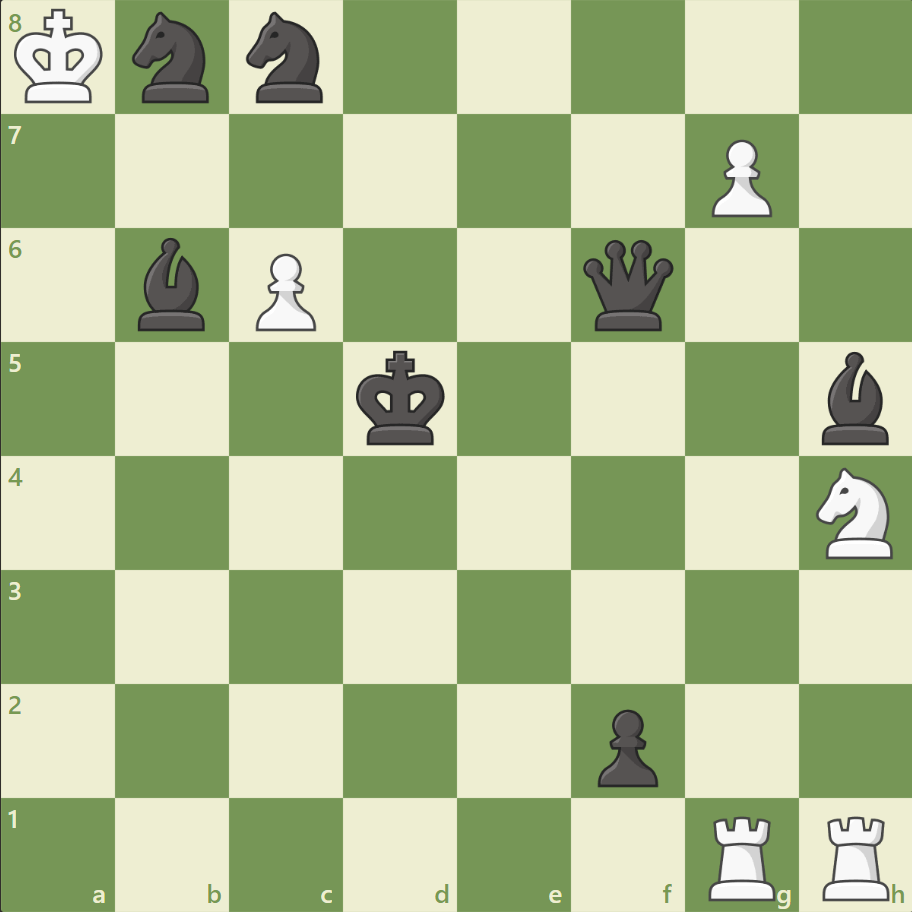K: (11, 4, 111, 112)
N: (806, 461, 903, 564)
P: (701, 132, 776, 223), (247, 246, 322, 337)
R: (700, 806, 783, 904), (814, 806, 897, 904)
b: (131, 233, 215, 336), (812, 347, 896, 449)
k: (351, 344, 451, 452)
n: (124, 7, 222, 110), (238, 7, 335, 110)
p: (588, 700, 662, 791)
q: (578, 236, 677, 335)
